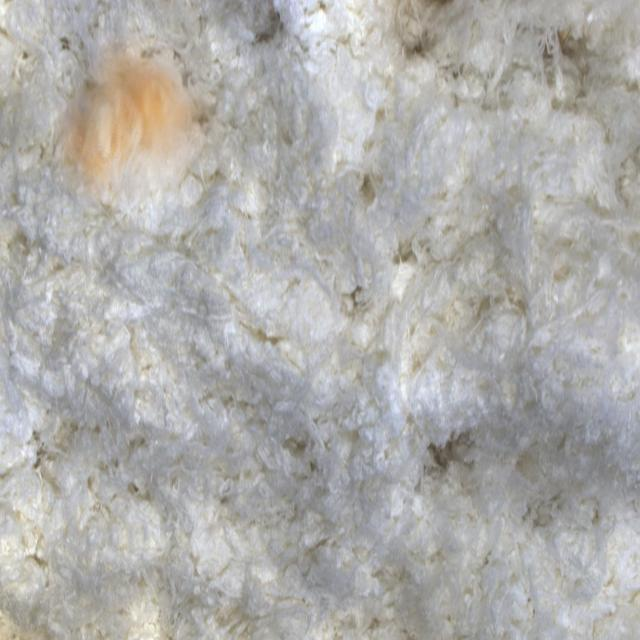dust: (53, 17, 224, 206)
